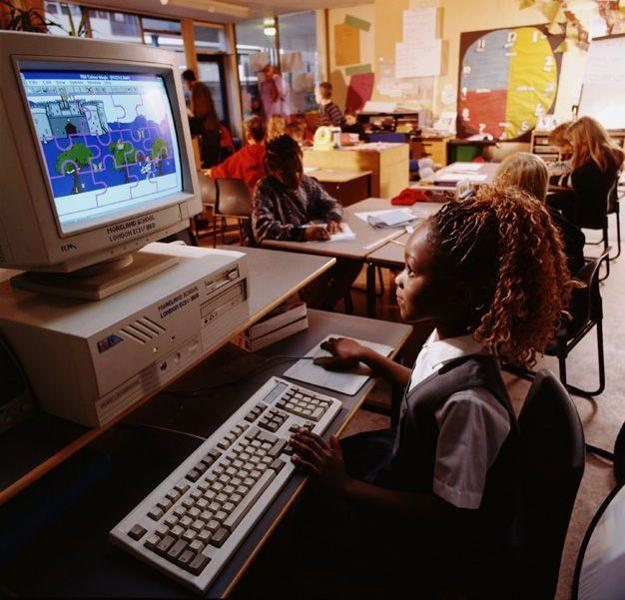person: (290, 188, 571, 600)
